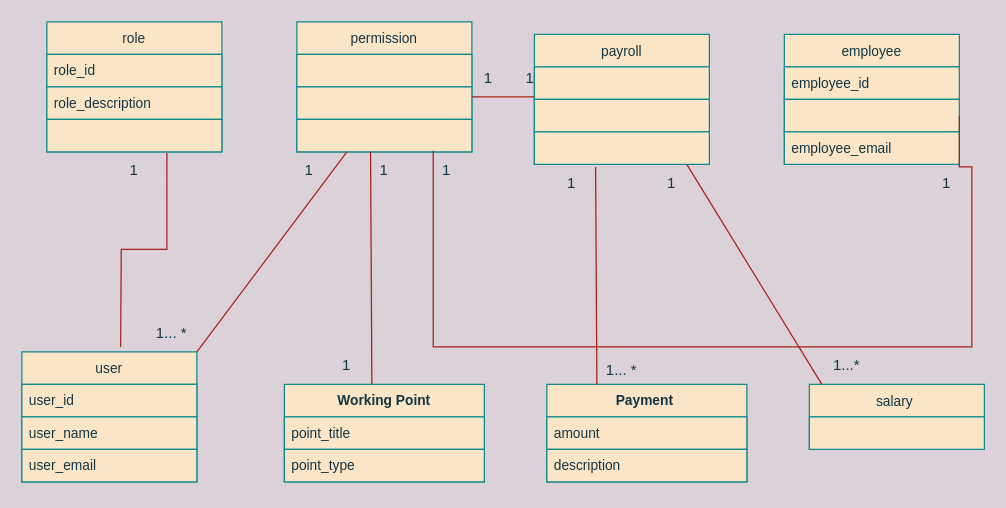
Image size: 1006x508. Some labels were removed from this diagram. Here are the shapes that lost their labels. From the top down, the centre of each, then its label:
At [384,70]: "permission_id".
At [621,82]: "payroll_id".
At [384,102]: "permission_title".
At [621,115]: "payroll_description".
At [871,115]: "employee_name".
At [134,135]: "role_title".
At [384,135]: "permission_module".
At [621,147]: "payroll_type".
At [896,432]: "total".
